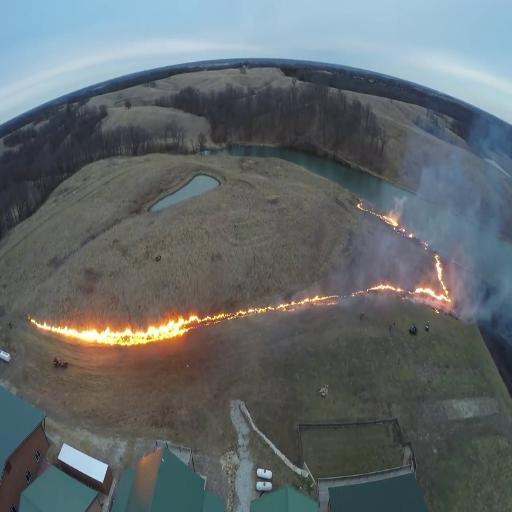fire: (28, 295, 341, 348), (344, 204, 454, 304)
smoke: (396, 145, 512, 335), (337, 247, 413, 313)
